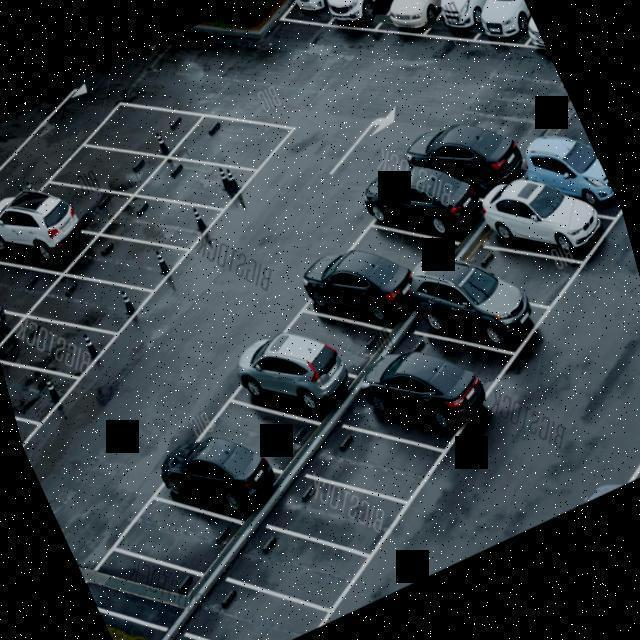space-empty: (266, 452, 409, 585), (300, 399, 442, 532), (219, 503, 357, 634), (379, 301, 513, 427), (199, 371, 321, 493), (465, 211, 584, 331), (274, 278, 391, 394), (111, 480, 238, 585), (181, 557, 333, 640), (335, 203, 446, 303), (175, 85, 286, 185), (40, 124, 154, 213), (84, 73, 191, 167)
space-occupied: (337, 343, 479, 476), (151, 413, 293, 546), (412, 249, 548, 379), (359, 138, 498, 263), (400, 99, 536, 221), (291, 232, 422, 354), (220, 328, 360, 442), (480, 167, 612, 283), (0, 289, 122, 407), (40, 244, 154, 358), (518, 123, 625, 244), (107, 168, 223, 276), (77, 206, 191, 312), (147, 136, 251, 235), (14, 151, 115, 241), (0, 331, 83, 439), (0, 193, 85, 292), (399, 0, 524, 65), (303, 0, 432, 56), (351, 0, 480, 55), (0, 226, 58, 328), (460, 0, 547, 68), (270, 0, 379, 48), (510, 0, 551, 64), (0, 262, 24, 347)
